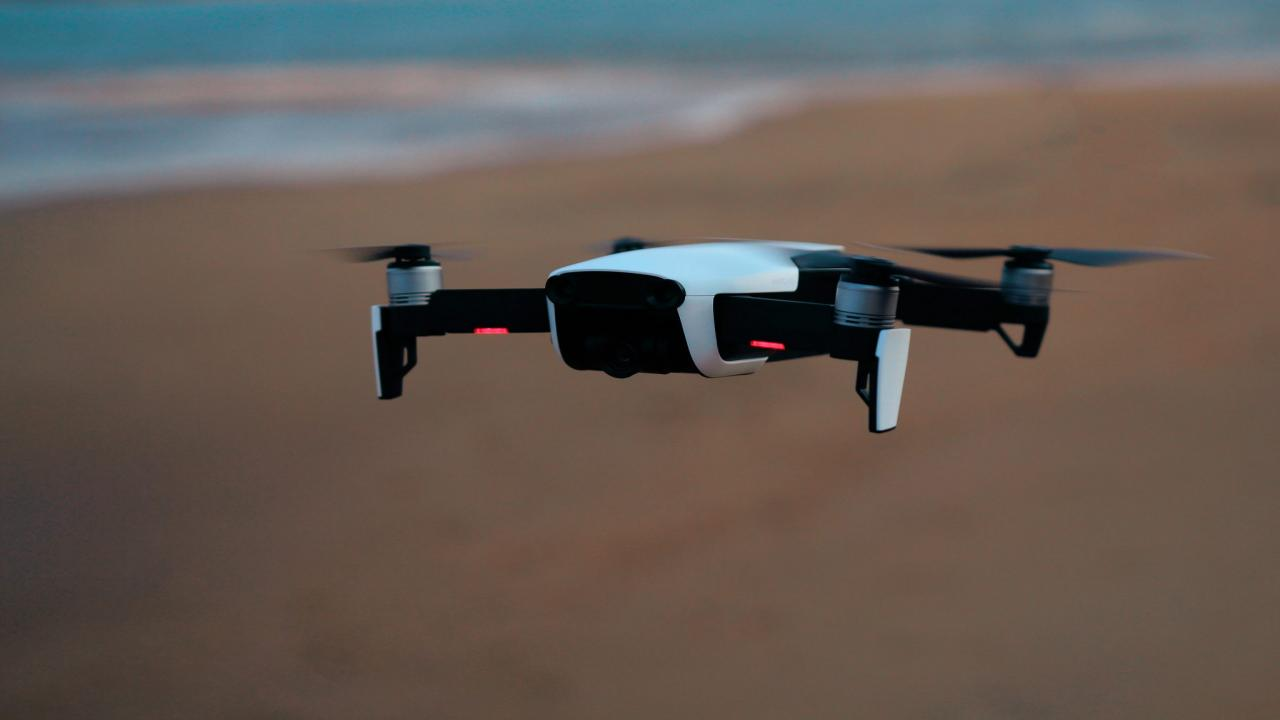Drone: (278, 193, 1228, 452)
